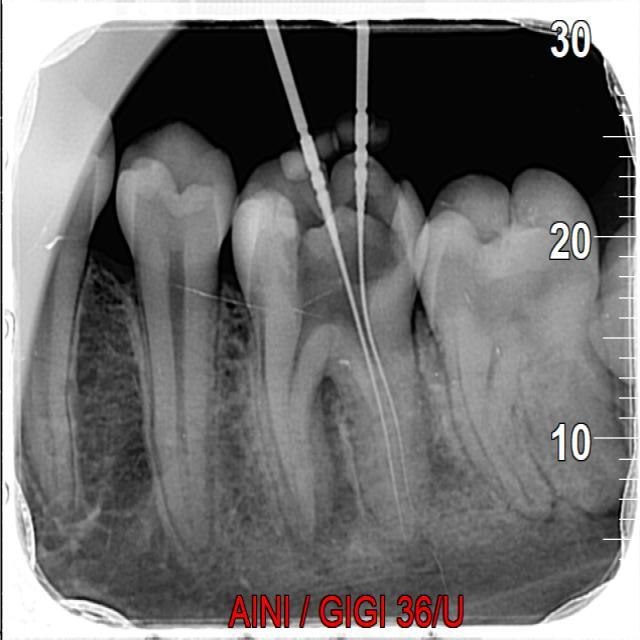individual-tooth-8tto: (406, 164, 637, 522), (236, 148, 425, 535), (120, 128, 237, 554)
